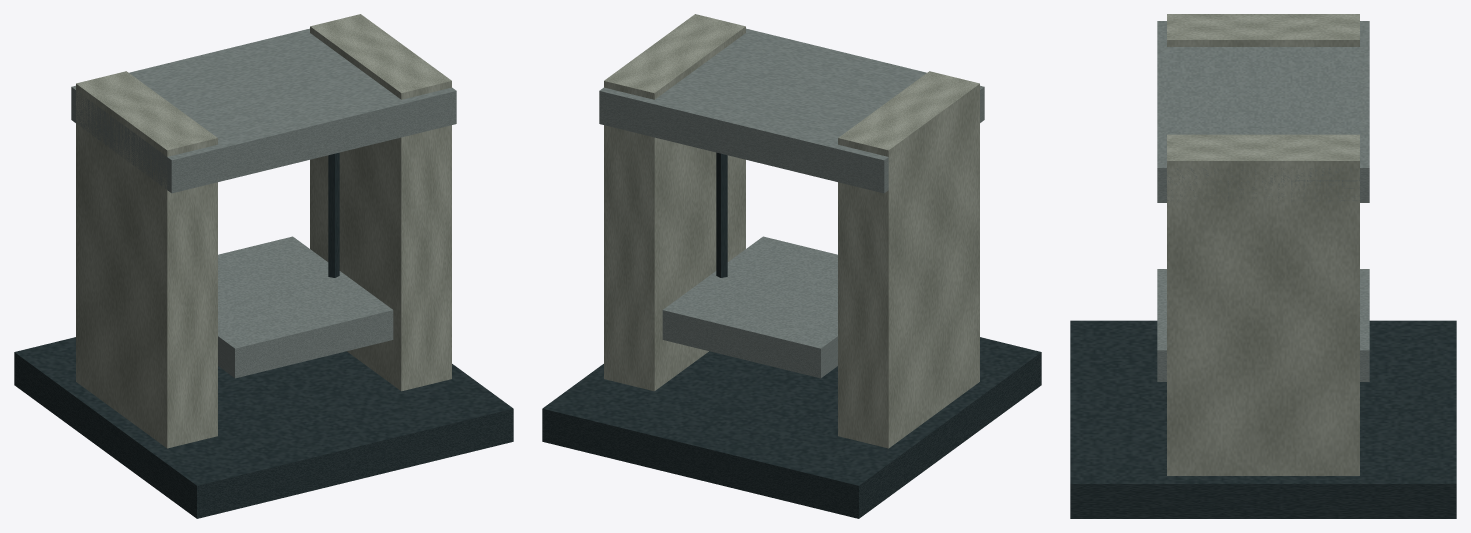
File: elevator_base_01.fbx
3 views of the same model, side by side, from view 1: azimuth 30°, elevation 25°; view 2: azimuth 150°, elevation 25°; view 3: azimuth 270°, elevation 25° (orthographic). The views are drawn at different scales.
Visible parts, largest first — view 1: elevator_base_01_LOD0; view 2: elevator_base_01_LOD0; view 3: elevator_base_01_LOD0.
Boxes of the visible parts, box(x1,y1,x2,y2) form: elevator_base_01_LOD0: box(14, 14, 513, 518); elevator_base_01_LOD0: box(542, 14, 1041, 518); elevator_base_01_LOD0: box(1070, 14, 1456, 518).
Size of what is drawn, in the model's own units: 1 by 1 by 1.
